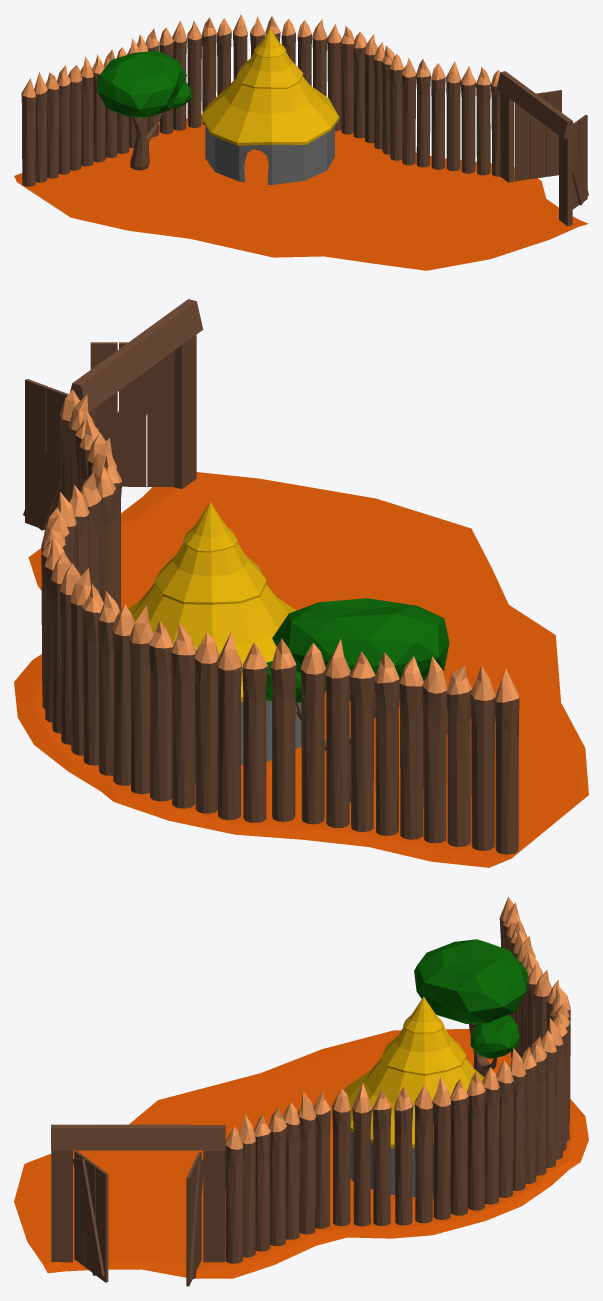
The model's file is OogaBoogaShowcase.glb.
The picture shows the model from 3 angles, top to bottom: view 1: azimuth 30°, elevation 25°; view 2: azimuth 150°, elevation 25°; view 3: azimuth 270°, elevation 25°; orthographic projection. The views are drawn at different scales.
Parts seen in each view (by area): view 1: OogaBoogaShowcase, Fence, House, Door, Acacia; view 2: Fence, OogaBoogaShowcase, Door, House, Acacia; view 3: Fence, OogaBoogaShowcase, Door, Acacia, House.
Part boxes in pixels (box(x1,y1,x2,y2)): OogaBoogaShowcase: box(14, 118, 588, 270); Fence: box(21, 14, 500, 186); House: box(201, 28, 339, 184); Door: box(496, 71, 588, 226); Acacia: box(97, 50, 191, 170); Fence: box(41, 389, 519, 854); OogaBoogaShowcase: box(14, 472, 588, 867); Door: box(23, 299, 203, 530); House: box(128, 502, 301, 764); Acacia: box(266, 598, 449, 801); Fence: box(225, 897, 570, 1263); OogaBoogaShowcase: box(14, 1029, 588, 1278); Door: box(51, 1124, 225, 1286); Acacia: box(414, 939, 527, 1076); House: box(344, 996, 483, 1196).
Size of the model in its own units: 23.55 by 7.4 by 21.92.
